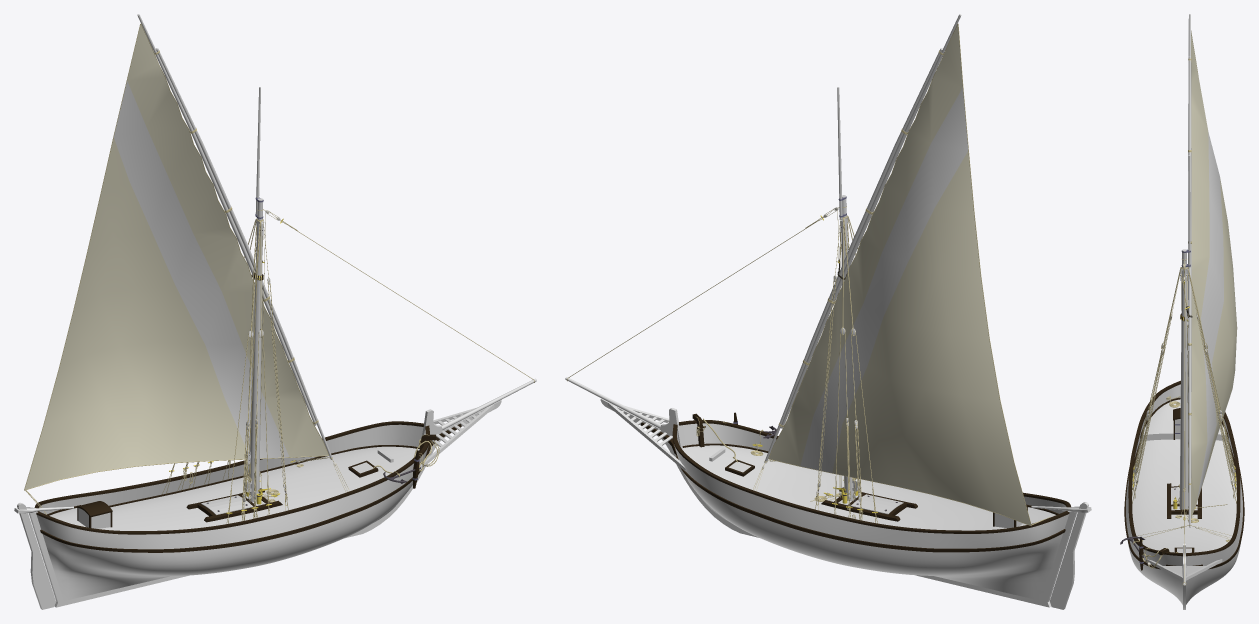
Rendered from sailingShip.fbx.
3 renders of one model, left to right at view 1: azimuth 30°, elevation 25°; view 2: azimuth 150°, elevation 25°; view 3: azimuth 270°, elevation 25°, orthographic. The views are drawn at different scales.
Visible parts, largest first — view 1: grandVoile, coque, pont, coque.001, antenne, quille, mat, haubans, safran, poulaine, descente, ecoutille; view 2: grandVoile, coque, pont, antenne, quille, coque.001, haubans, safran, poulaine, ecoutille; view 3: grandVoile, pont, coque, mat, antenne, haubans, mouflageHaubanSimple, coque.001, poulaine, ecoutille, cordageEtai, mat.001 (+1 smaller).
Boxes of the visible parts, x1,y1,x2,y2 form: grandVoile: (24,23,328,490); coque: (34,421,429,600); pont: (49,446,419,530); coque.001: (39,424,425,515); antenne: (137,14,332,459); quille: (28,400,501,607); mat: (249,198,263,501); haubans: (171,218,269,514); safran: (14,502,73,609); poulaine: (420,404,494,469); descente: (77,501,112,528); ecoutille: (186,488,282,522); grandVoile: (768,23,1031,526); coque: (672,420,1070,600); pont: (682,445,1055,530); antenne: (764,14,961,463); quille: (600,398,1076,607); coque.001: (677,423,1066,514); haubans: (834,215,876,513); safran: (1031,502,1091,609); poulaine: (607,403,686,471); ecoutille: (821,487,917,521); grandVoile: (1191,30,1237,518); pont: (1132,399,1236,552); coque: (1124,380,1244,604); mat: (1179,249,1188,509); antenne: (1188,14,1191,527); haubans: (1132,267,1236,486); mouflageHaubanSimple: (1134,315,1234,491); coque.001: (1132,384,1236,474); poulaine: (1146,559,1222,580); ecoutille: (1167,483,1201,518); cordageEtai: (1182,282,1186,585); mat.001: (1188,155,1190,267).
Size of the model in its own units: 2963 by 3105 by 700.
